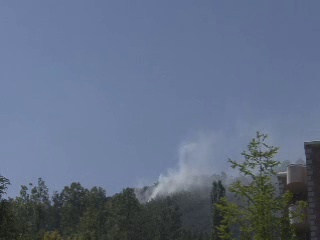smoke: (131, 134, 221, 205)
